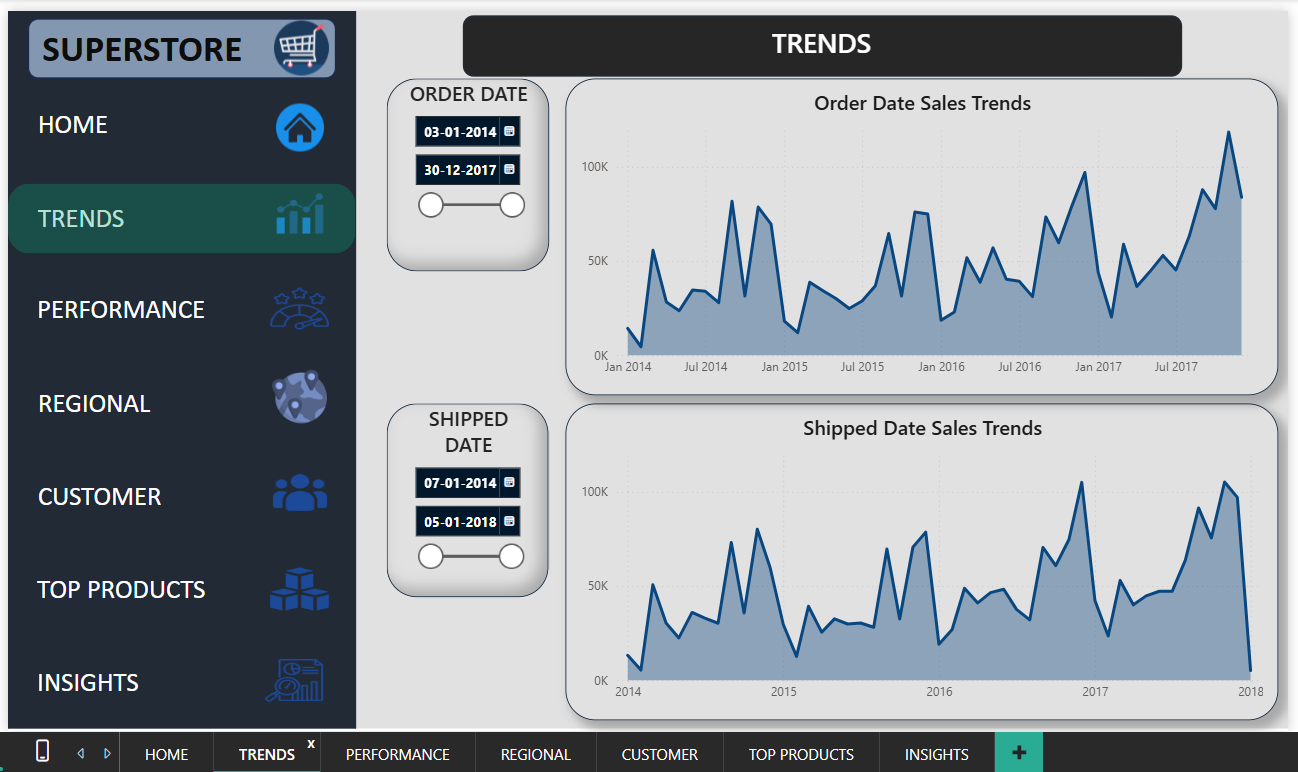

The page's visual inventory and layout, read from the dashboard file:
{"tool":"powerbi","page":{"name":"TRENDS","canvas":[1280,720],"ordinal":1},"visuals":[{"type":"areaChart","title":"Order Date Sales Trends","fields":{"Category":["Sample - Superstore.Order Date.Variation.Date Hierarchy.Year","Sample - Superstore.Order Date.Variation.Date Hierarchy.Quarter","Sample - Superstore.Order Date.Variation.Date Hierarchy.Month"],"Y":["Sum(Sample - Superstore.Sales)"]},"box":[557.1,67.5,712.9,316.6],"z":0},{"type":"areaChart","title":"Shipped Date Sales Trends","fields":{"Category":["Sample - Superstore.Ship Date.Variation.Date Hierarchy.Year","Sample - Superstore.Ship Date.Variation.Date Hierarchy.Quarter","Sample - Superstore.Ship Date.Variation.Date Hierarchy.Month"],"Y":["Sum(Sample - Superstore.Sales)"]},"box":[557.1,392.6,712.9,316.6],"z":1},{"type":"slicer","title":"ORDER DATE","fields":{"Values":["Sample - Superstore.Order Date"]},"box":[378.8,67.5,162.5,192.5],"z":2},{"type":"slicer","title":"SHIPPED DATE","fields":{"Values":["Sample - Superstore.Ship Date"]},"box":[379.1,392.6,162,193.9],"z":3},{"type":"textbox","box":[758.3,8.6,127.6,50.3],"z":4},{"type":"shape","box":[0,172.5,347.5,70],"z":5},{"type":"actionButton","box":[0,77.5,347.5,70],"z":6},{"type":"actionButton","box":[0,260,347.5,70],"z":7},{"type":"actionButton","box":[0,357.5,347.5,70],"z":8},{"type":"actionButton","box":[0,455,347.5,70],"z":9},{"type":"actionButton","box":[0,540,347.5,70],"z":10},{"type":"actionButton","box":[0,638.8,347.5,70],"z":11}]}

Visuals, with their boxes on the page's 1280x720 design canvas (x1, y1, x2, y2). These are canvas units, not pixel positions in the 1298x772 screenshot, which may show the page scaled, cropped or inside an application window:
"Order Date Sales Trends" areaChart: box(557, 68, 1270, 384)
"Shipped Date Sales Trends" areaChart: box(557, 393, 1270, 709)
"ORDER DATE" slicer: box(379, 68, 541, 260)
"SHIPPED DATE" slicer: box(379, 393, 541, 586)
textbox: box(758, 9, 886, 59)
shape: box(0, 172, 348, 242)
actionButton: box(0, 78, 348, 148)
actionButton: box(0, 260, 348, 330)
actionButton: box(0, 358, 348, 428)
actionButton: box(0, 455, 348, 525)
actionButton: box(0, 540, 348, 610)
actionButton: box(0, 639, 348, 709)
